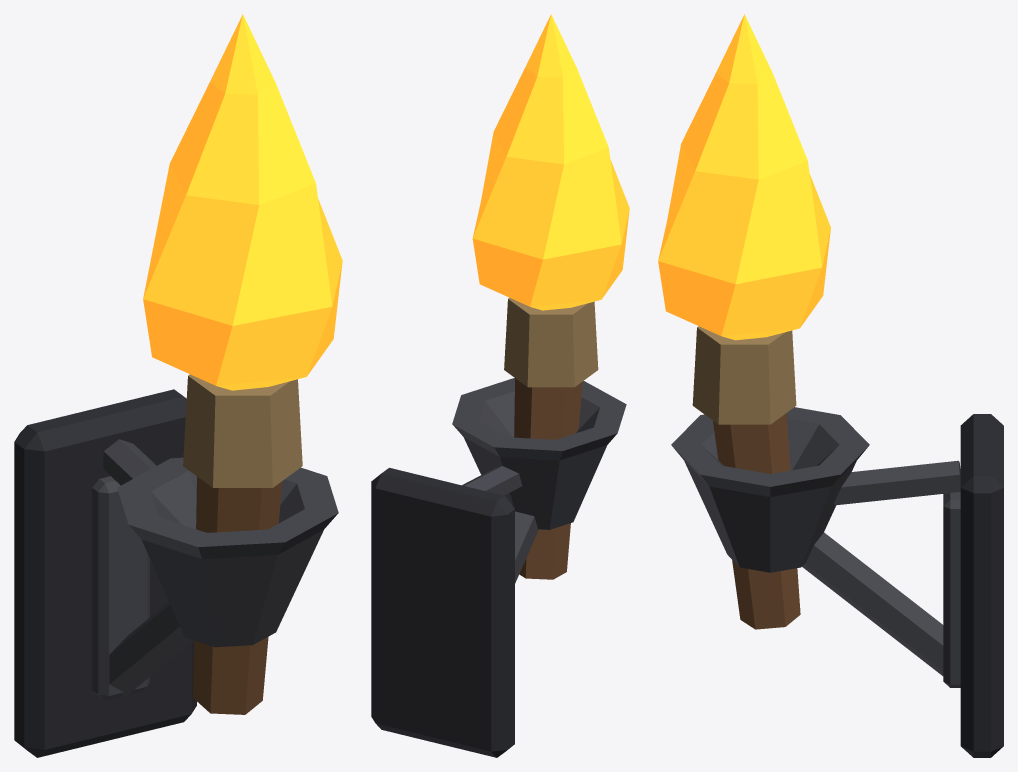
Rendered from env_torch.glb.
3 renders of one model, left to right at view 1: azimuth 30°, elevation 25°; view 2: azimuth 150°, elevation 25°; view 3: azimuth 270°, elevation 25°, orthographic. The views are drawn at different scales.
Parts seen in each view (by area): view 1: env_torch; view 2: env_torch; view 3: env_torch.
Part boxes in pixels (x1,y1,x2,y2): env_torch: [14, 14, 342, 757]; env_torch: [371, 14, 629, 757]; env_torch: [658, 14, 1003, 757].
Bounding box in the file's own units: 0.23 × 0.91 × 0.4.
